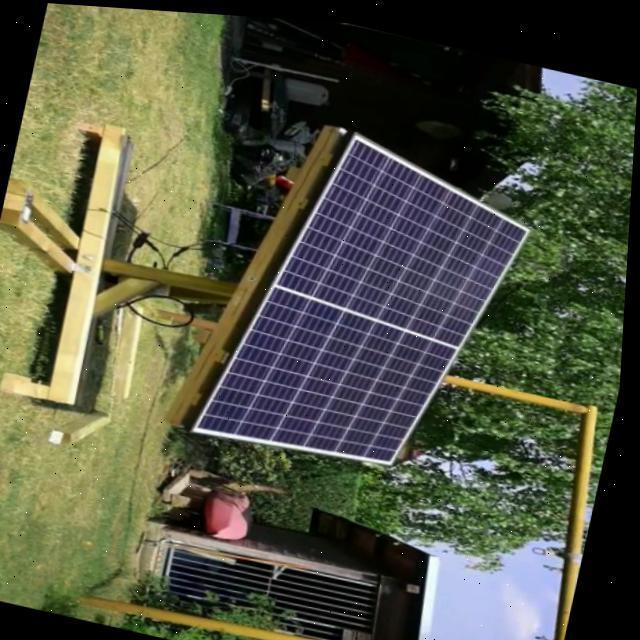Normal Solar Panel: (196, 109, 542, 488)
